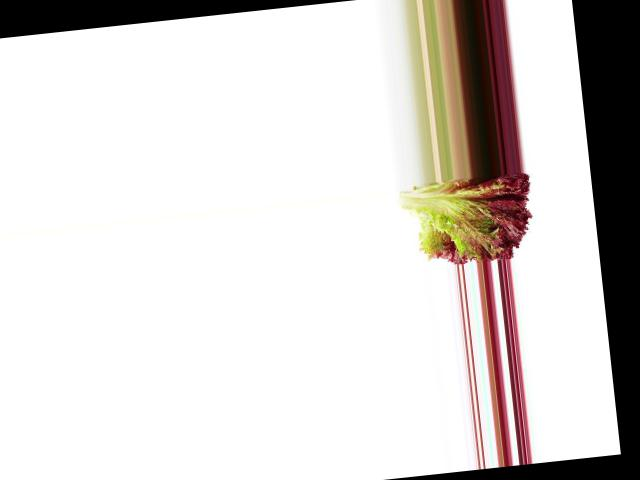lettuce: (393, 170, 545, 268)
